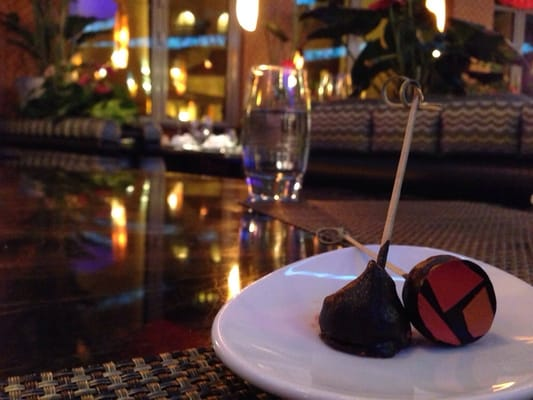pizza: (240, 64, 312, 210)
